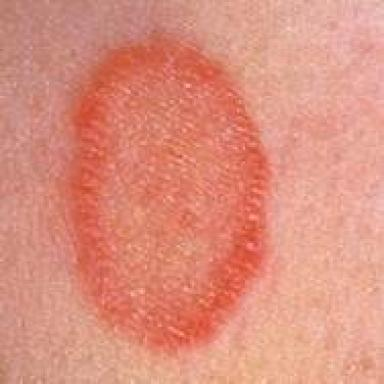Tinea-Corporis: (75, 35, 266, 350)
